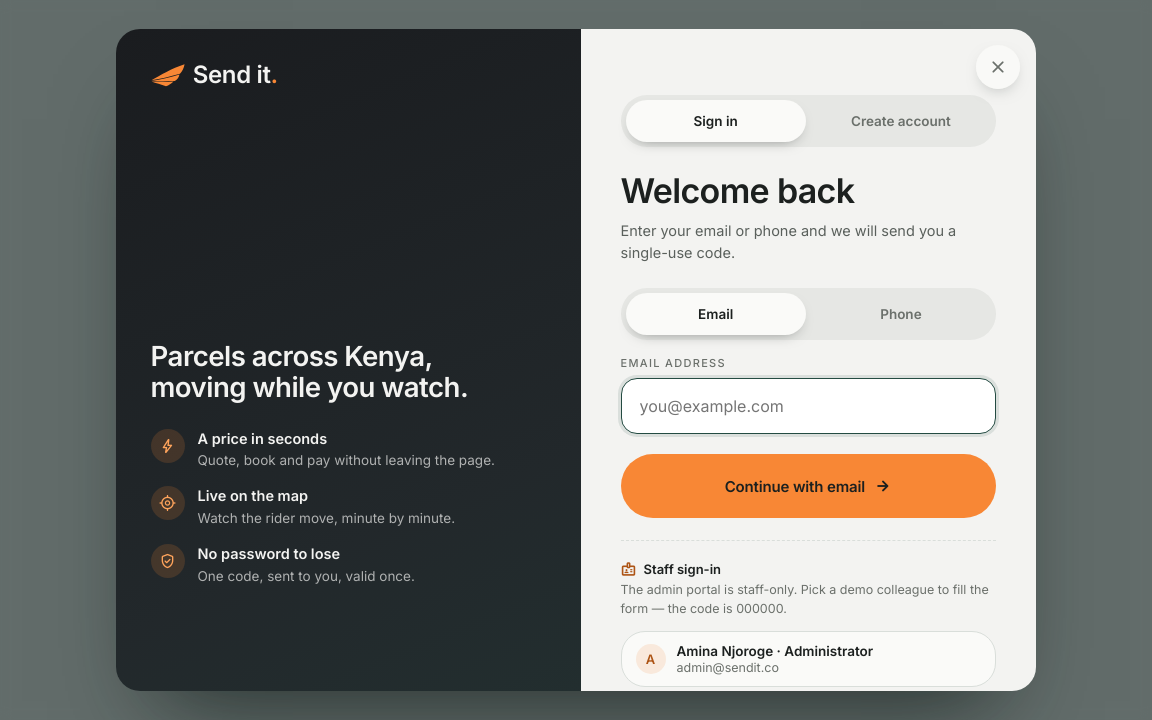
Test case: the staff door › fills the form when a colleague is picked
What coordinates should you click on to do the following:
click the text "Amina Njoroge · Administrator"
I would click on:
 (775, 651)
Its box is [676,643,873,659].
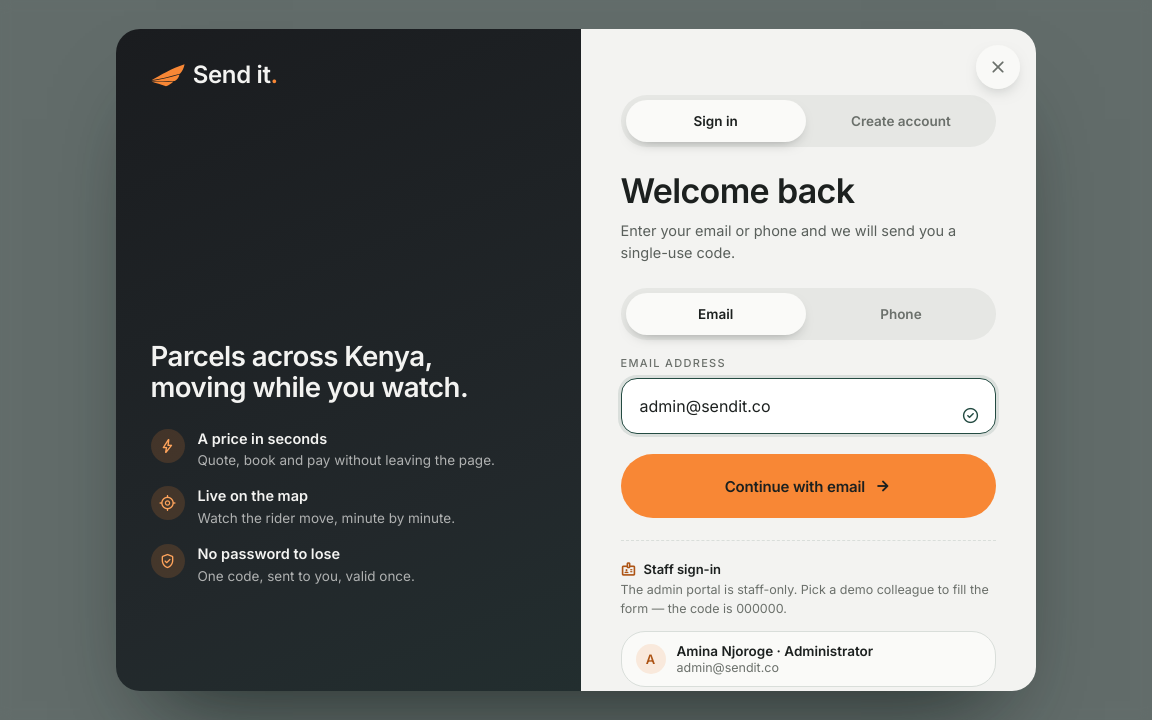
Expected: the field labelled "Email address" holds "admin@sendit.co", [620,378,996,434]
